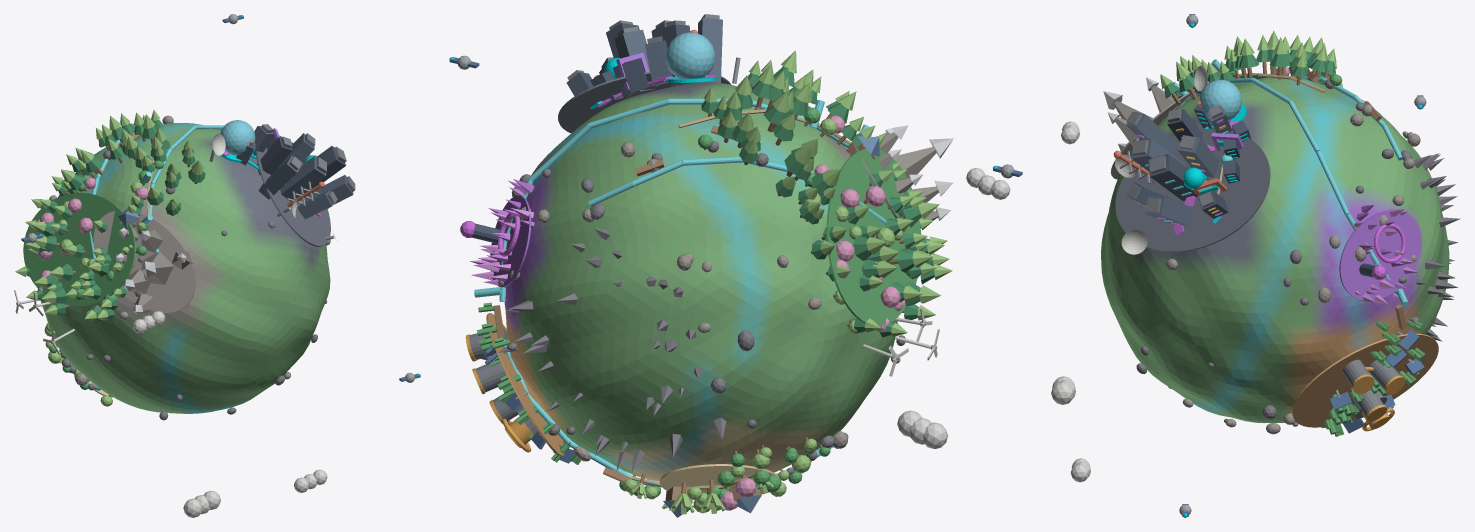
File: cyber_tiny_planet_lively_full.glb
3 views of the same model, side by side, from view 1: azimuth 30°, elevation 25°; view 2: azimuth 150°, elevation 25°; view 3: azimuth 270°, elevation 25° (orthographic). The views are drawn at different scales.
Parts seen in each view (by area): view 1: base_multi_biome_planet, pine_needles_light, lush_forest_biome_plate, pine_needles_dark, city_skyscrapers, mountain_biome_plate, round_tree_canopies, mountain_rock_peaks, cyber_city_plate, low_poly_clouds, scattered_low_poly_boulders, blue_geodesic_dome (+3 smaller); view 2: base_multi_biome_planet, pine_needles_light, pine_needles_dark, round_tree_canopies, lush_forest_biome_plate, scattered_low_poly_boulders, city_skyscrapers, underside_rock_crags, low_poly_clouds, cyber_city_plate, blue_geodesic_dome, purple_crystals (+16 smaller); view 3: base_multi_biome_planet, cyber_city_plate, city_skyscrapers, desert_industry_plate, crystal_quarry_plate, scattered_low_poly_boulders, pine_needles_light, pine_needles_dark, underside_rock_crags, city_rooftop_caps, glowing_river_1, low_poly_clouds (+14 smaller).
Part boxes in pixels (<box>): base_multi_biome_planet: <box>37,123,330,413</box>; pine_needles_light: <box>15,109,203,321</box>; lush_forest_biome_plate: <box>23,192,135,305</box>; pine_needles_dark: <box>26,119,205,320</box>; city_skyscrapers: <box>252,126,353,219</box>; mountain_biome_plate: <box>93,210,195,312</box>; round_tree_canopies: <box>34,123,163,406</box>; mountain_rock_peaks: <box>120,229,192,313</box>; cyber_city_plate: <box>256,147,330,246</box>; low_poly_clouds: <box>132,311,327,517</box>; scattered_low_poly_boulders: <box>49,115,330,420</box>; blue_geodesic_dome: <box>220,120,255,155</box>; base_multi_biome_planet: <box>504,82,898,481</box>; pine_needles_light: <box>704,50,952,336</box>; pine_needles_dark: <box>701,66,934,337</box>; round_tree_canopies: <box>619,107,923,513</box>; lush_forest_biome_plate: <box>826,148,921,325</box>; scattered_low_poly_boulders: <box>498,83,905,474</box>; city_skyscrapers: <box>566,17,722,96</box>; underside_rock_crags: <box>498,229,726,472</box>; low_poly_clouds: <box>897,168,1010,448</box>; cyber_city_plate: <box>558,71,730,133</box>; blue_geodesic_dome: <box>666,32,715,78</box>; purple_crystals: <box>469,179,534,285</box>; base_multi_biome_planet: <box>1101,76,1449,423</box>; cyber_city_plate: <box>1115,128,1270,251</box>; city_skyscrapers: <box>1126,106,1232,225</box>; desert_industry_plate: <box>1292,333,1438,427</box>; crystal_quarry_plate: <box>1339,210,1421,300</box>; scattered_low_poly_boulders: <box>1133,71,1420,434</box>; pine_needles_light: <box>1160,30,1342,88</box>; pine_needles_dark: <box>1164,49,1335,101</box>; underside_rock_crags: <box>1409,153,1460,341</box>; city_rooftop_caps: <box>1126,105,1222,212</box>; glowing_river_1: <box>1179,78,1399,299</box>; low_poly_clouds: <box>1051,121,1090,482</box>.
Size of the model in its own units: 15.7 by 13.5 by 11.87.
